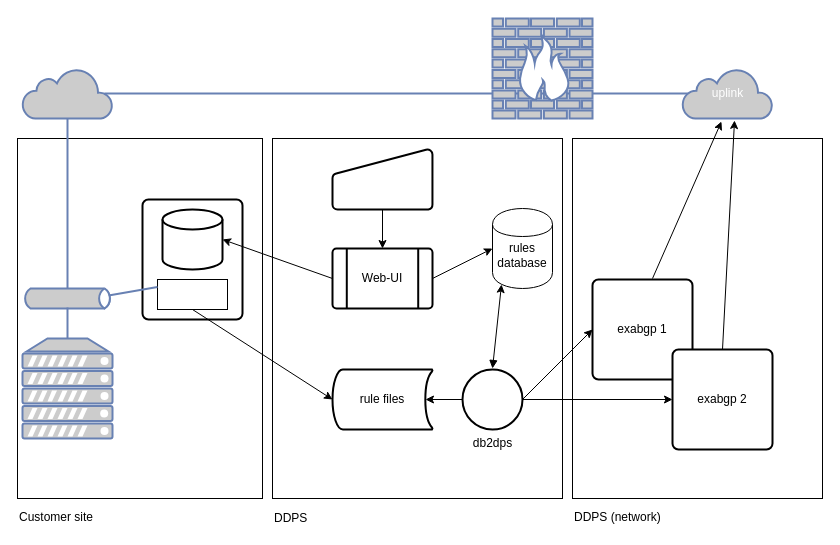
The diagram is 840 pixels wide and 545 high, and some of its shapes have lost their labels. The shapes that lost their labels are listed below. From the top down, each one's centre as x and y in pixels, then its label:
At point (67, 93): "ISP".
At point (382, 179): "Operator".
At point (192, 239): "influx db".
At point (192, 294): "fastnetmon".
